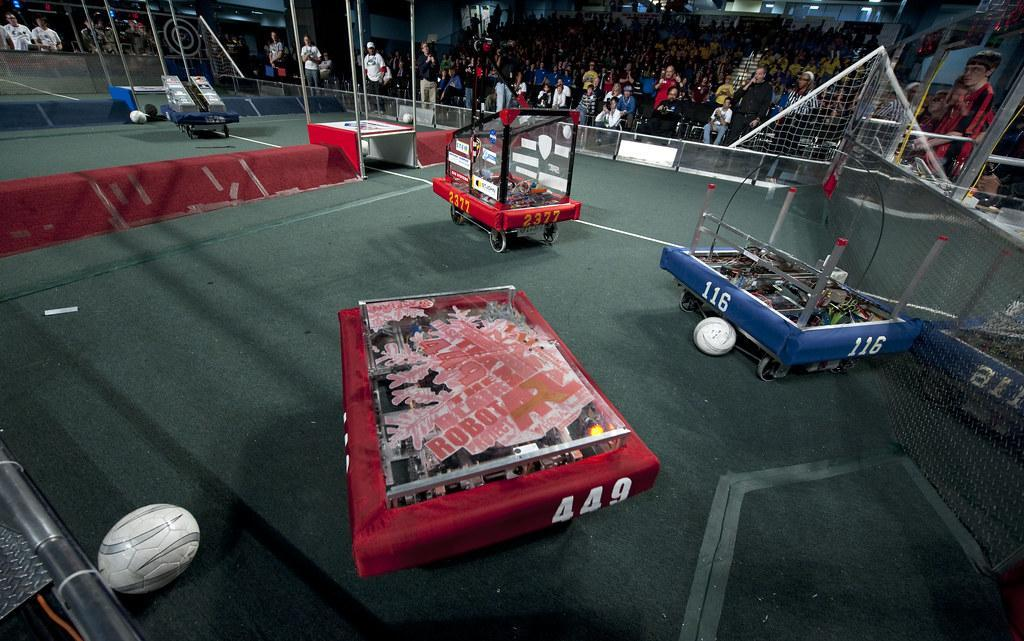robot: (327, 280, 666, 589), (656, 180, 954, 383), (430, 102, 593, 263), (147, 66, 243, 143)
